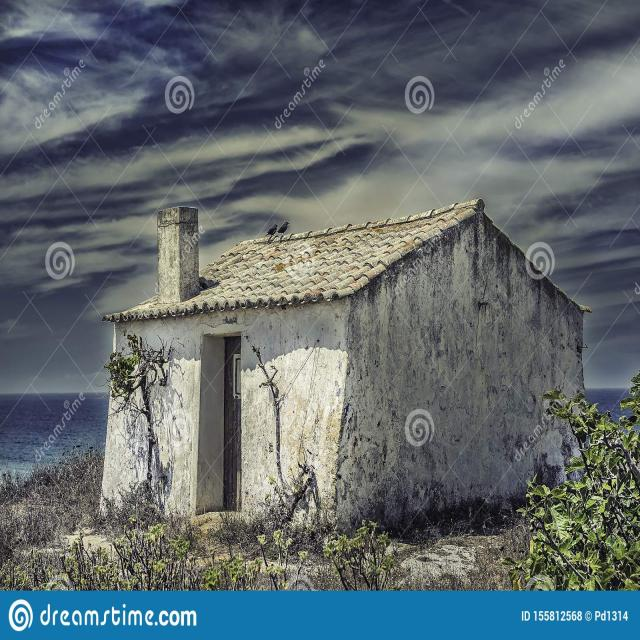bird: (265, 222, 278, 240)
